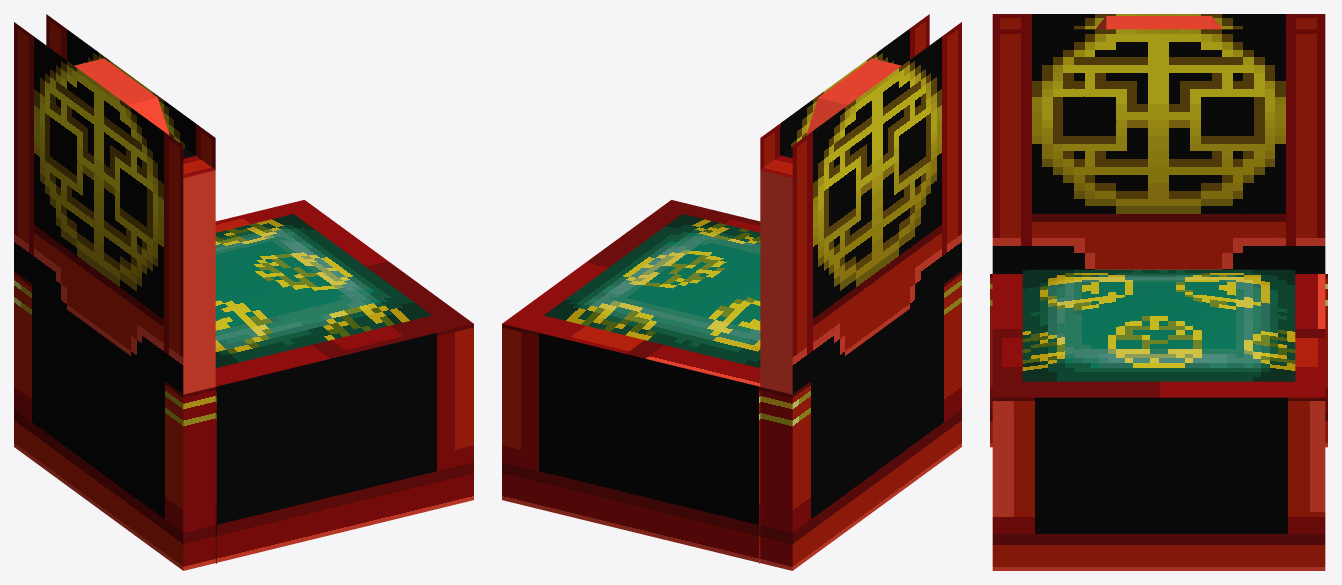
3 renders of one model, left to right at view 1: azimuth 30°, elevation 25°; view 2: azimuth 150°, elevation 25°; view 3: azimuth 270°, elevation 25°, orthographic.
Parts seen in each view (by area): view 1: 3560kg_09_isu; view 2: 3560kg_09_isu; view 3: 3560kg_09_isu.
Part boxes in pixels (bbox=[...]): 3560kg_09_isu: bbox=[14, 14, 473, 570]; 3560kg_09_isu: bbox=[502, 14, 961, 570]; 3560kg_09_isu: bbox=[990, 14, 1327, 570].
Size of the model in its own units: 0.7585 by 1.06 by 0.7778.
Materials: 3 (3 with a texture image).
